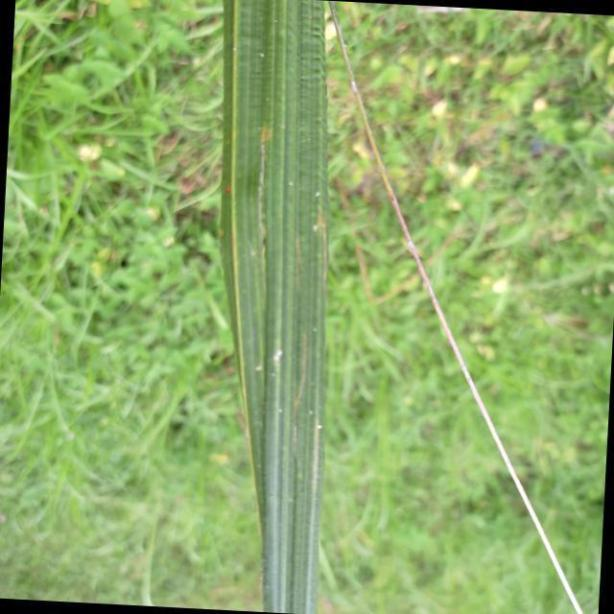Boron: (221, 3, 331, 614)
